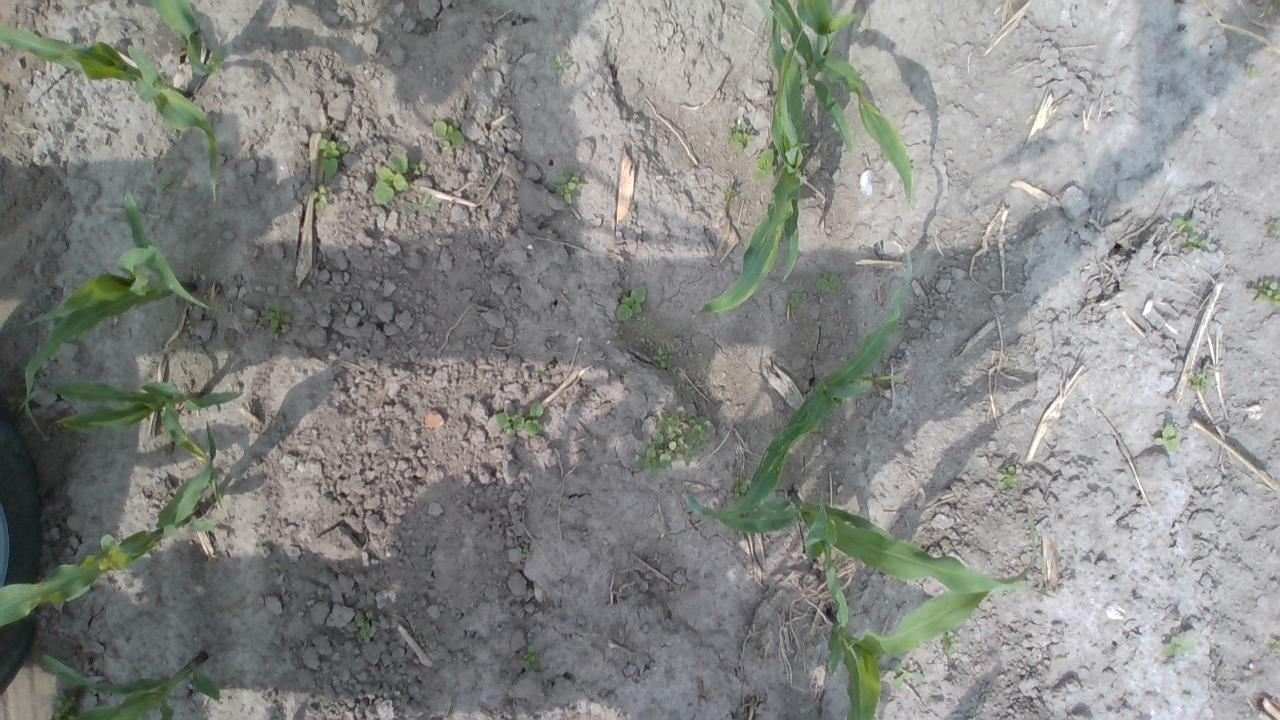Maize: (682, 246, 914, 520), (24, 187, 218, 438), (818, 531, 1054, 720), (0, 420, 216, 626), (683, 487, 1038, 596), (0, 26, 218, 202), (692, 19, 808, 314), (768, 0, 913, 203), (18, 378, 246, 464), (43, 648, 225, 720), (148, 0, 224, 78)
Weeds: (635, 410, 713, 481), (373, 153, 427, 205), (496, 402, 544, 439), (1172, 218, 1214, 251), (318, 138, 350, 180), (550, 168, 581, 205), (616, 286, 648, 320), (890, 660, 924, 690), (728, 120, 758, 152), (1246, 278, 1280, 306), (265, 299, 292, 332), (433, 121, 465, 148), (752, 147, 776, 181), (401, 194, 440, 214), (1153, 424, 1178, 454), (1162, 636, 1196, 658), (53, 692, 78, 720), (723, 476, 749, 502), (309, 184, 333, 211), (354, 610, 374, 640), (996, 466, 1020, 490), (942, 630, 962, 658), (518, 646, 538, 672), (815, 277, 841, 296), (1186, 373, 1210, 391), (653, 346, 670, 370), (785, 292, 805, 312), (1267, 216, 1280, 241), (553, 54, 567, 76), (534, 364, 550, 382), (516, 546, 534, 560), (1246, 64, 1259, 80), (724, 189, 737, 204), (1272, 638, 1280, 652), (477, 210, 488, 220)
